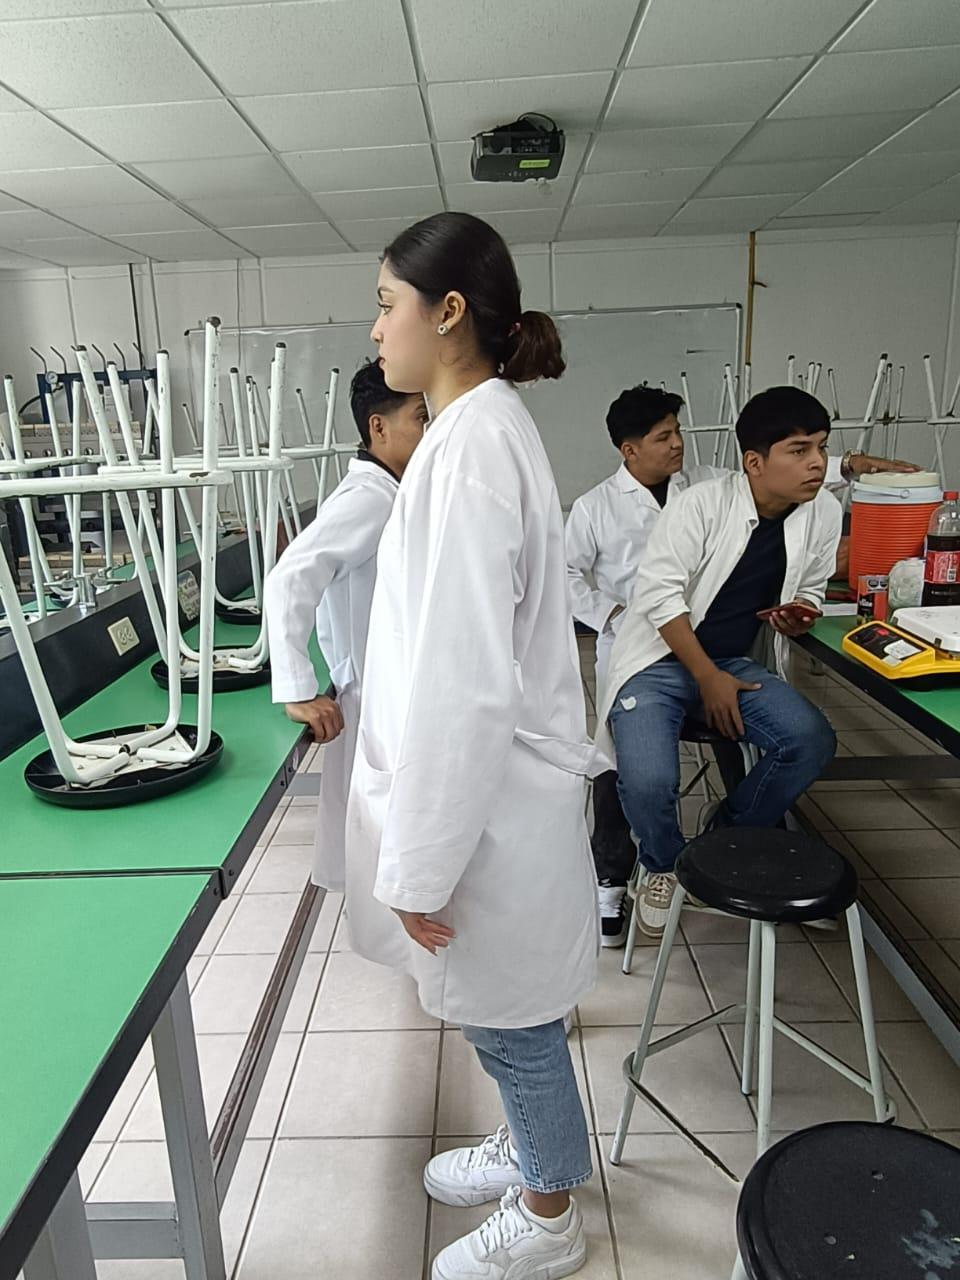Bata-Correcta: (345, 213, 606, 1279)
Bata-Incorrecta: (604, 387, 841, 934)
